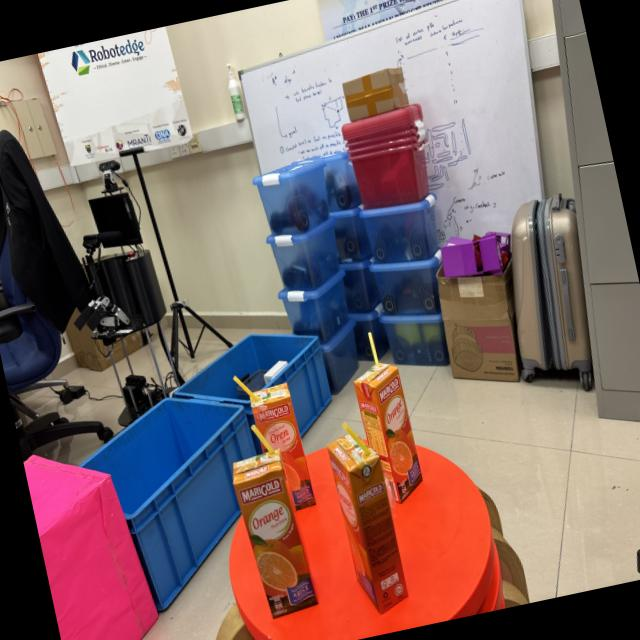drink_carton: (218, 412, 326, 628), (318, 408, 419, 624), (226, 352, 326, 528), (341, 322, 434, 510)
